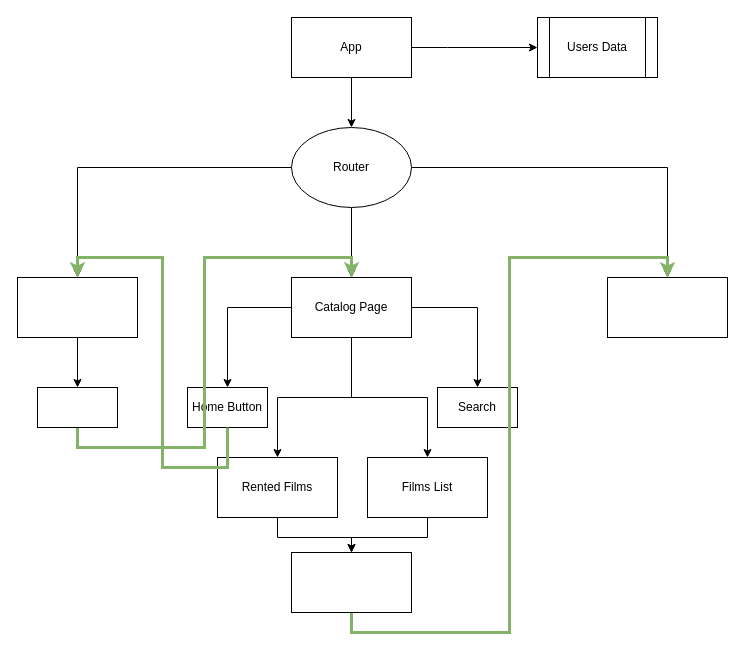
The diagram is 745 pixels wide and 659 high, and some of its shapes have lost their labels. Here are the shapes that lost their labels. From the top down, the box of each, then its label:
(16, 276, 138, 338): Home Page
(606, 276, 728, 338): Film Page
(36, 386, 118, 428): User
(290, 552, 412, 612): Films Icon
